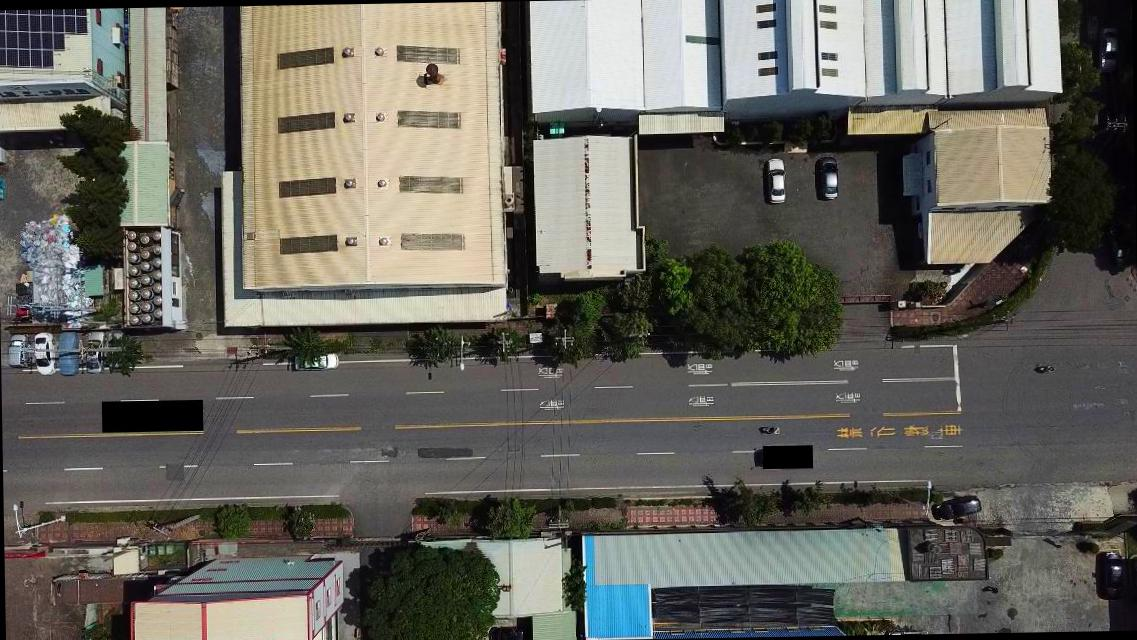vehicle: (1096, 550, 1124, 602), (936, 494, 983, 520), (1097, 27, 1122, 74), (765, 156, 786, 202), (35, 331, 57, 373), (819, 154, 839, 198), (104, 328, 124, 372), (292, 353, 340, 371), (85, 329, 104, 374), (7, 332, 29, 366)
